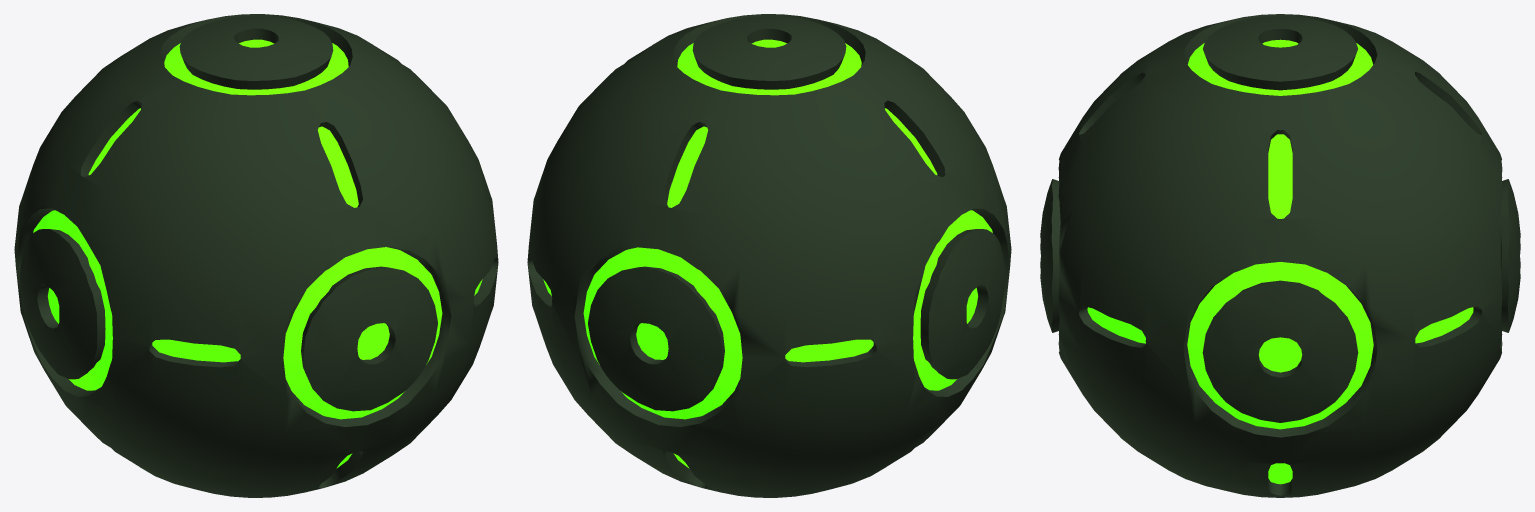
Rendered from ball.fbx.
3 renders of one model, left to right at view 1: azimuth 30°, elevation 25°; view 2: azimuth 150°, elevation 25°; view 3: azimuth 270°, elevation 25°, orthographic.
Parts seen in each view (by area): view 1: Ball; view 2: Ball; view 3: Ball.
Part boxes in pixels (x1,y1,x2,y2): Ball: (14, 14, 498, 497); Ball: (527, 14, 1011, 497); Ball: (1040, 14, 1520, 497).
Size of the model in its own units: 99.1 by 99.11 by 99.1.
